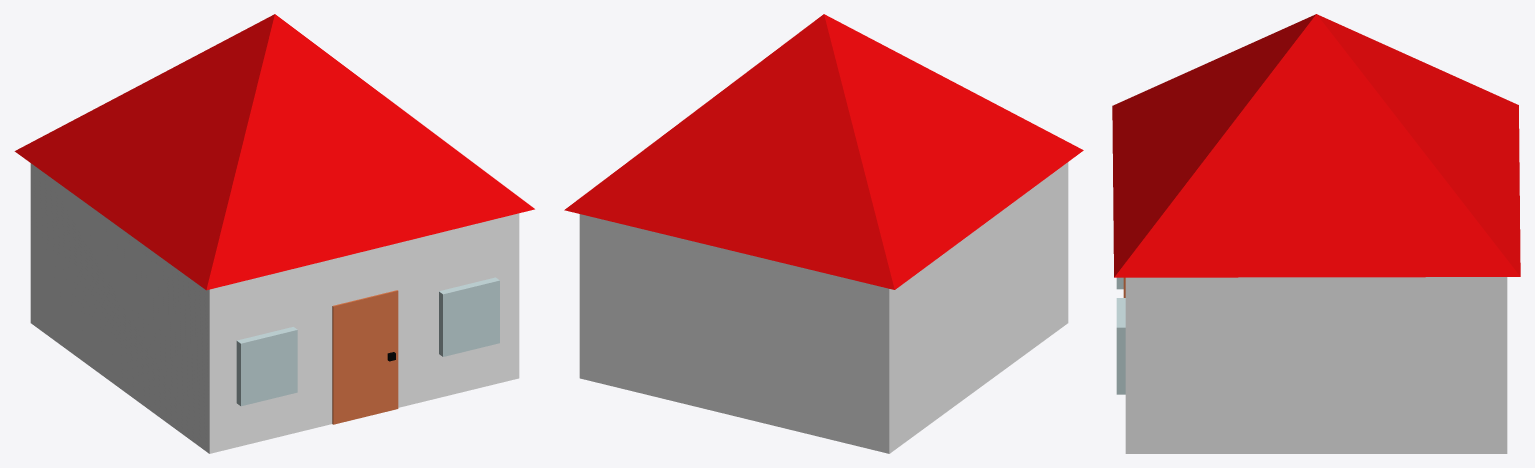
Rendered from Casa 6.fbx.
3 views of the same model, side by side, from view 1: azimuth 30°, elevation 25°; view 2: azimuth 150°, elevation 25°; view 3: azimuth 270°, elevation 25° (orthographic). The views are drawn at different scales.
Visible parts, largest first — view 1: Cone, Cube, Cube.001, Cube.004, Cube.003; view 2: Cube, Cone; view 3: Cone, Cube, Cube.003.
Part boxes in pixels (<box>): Cone: <box>14,14,534,290</box>; Cube: <box>30,163,519,453</box>; Cube.001: <box>332,290,398,424</box>; Cube.004: <box>236,327,297,406</box>; Cube.003: <box>439,277,499,356</box>; Cube: <box>579,162,1068,453</box>; Cone: <box>564,14,1083,289</box>; Cone: <box>1112,14,1520,277</box>; Cube: <box>1125,277,1507,453</box>; Cube.003: <box>1116,298,1125,394</box>.
Size of the model in its own units: 134 by 130 by 134.
